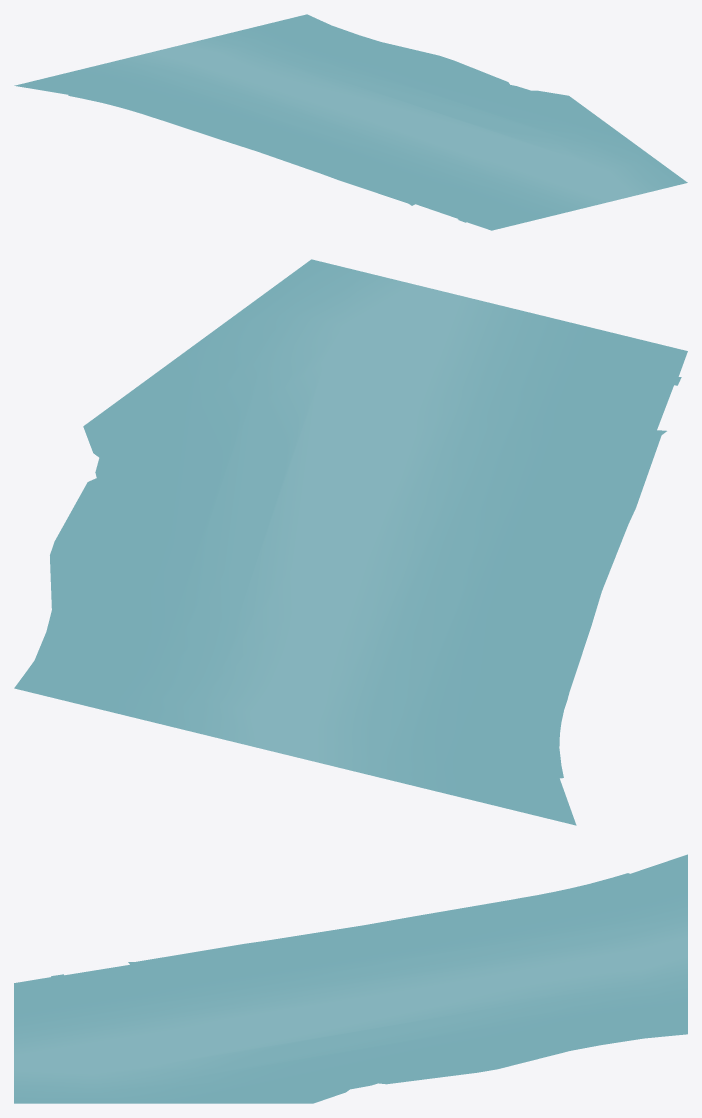
The picture shows the model from 3 angles, top to bottom: view 1: azimuth 30°, elevation 25°; view 2: azimuth 150°, elevation 25°; view 3: azimuth 270°, elevation 25°; orthographic projection. The views are drawn at different scales.
Visible parts, largest first — view 1: city; view 2: city; view 3: city.
Part boxes in pixels (x1=…): city: x1=14, y1=14, x2=687, y2=230; city: x1=14, y1=259, x2=687, y2=825; city: x1=14, y1=854, x2=687, y2=1103.
Size of the model in its own units: 438 by 0 by 500.
